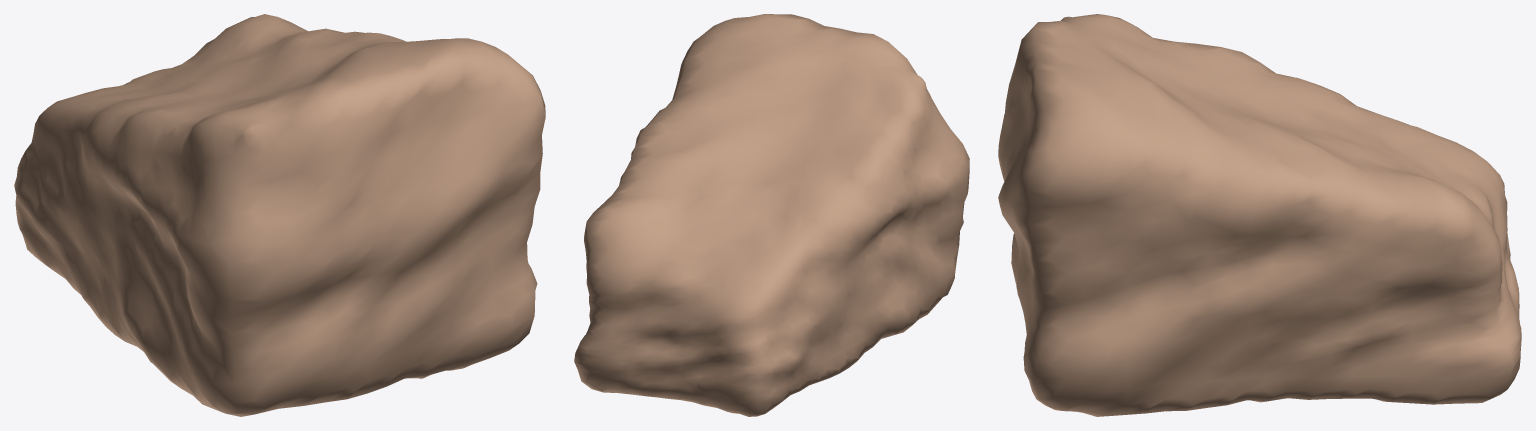
Rendered from Roca4.FBX.
3 views of the same model, side by side, from view 1: azimuth 30°, elevation 25°; view 2: azimuth 150°, elevation 25°; view 3: azimuth 270°, elevation 25° (orthographic). The views are drawn at different scales.
Parts seen in each view (by area): view 1: Roca4_low; view 2: Roca4_low; view 3: Roca4_low.
Part boxes in pixels (box(x1,y1,x2,y2)): Roca4_low: box(14, 14, 545, 416); Roca4_low: box(574, 14, 969, 416); Roca4_low: box(998, 14, 1521, 416).
Bounding box in the file's own units: 399 × 367 × 541.
